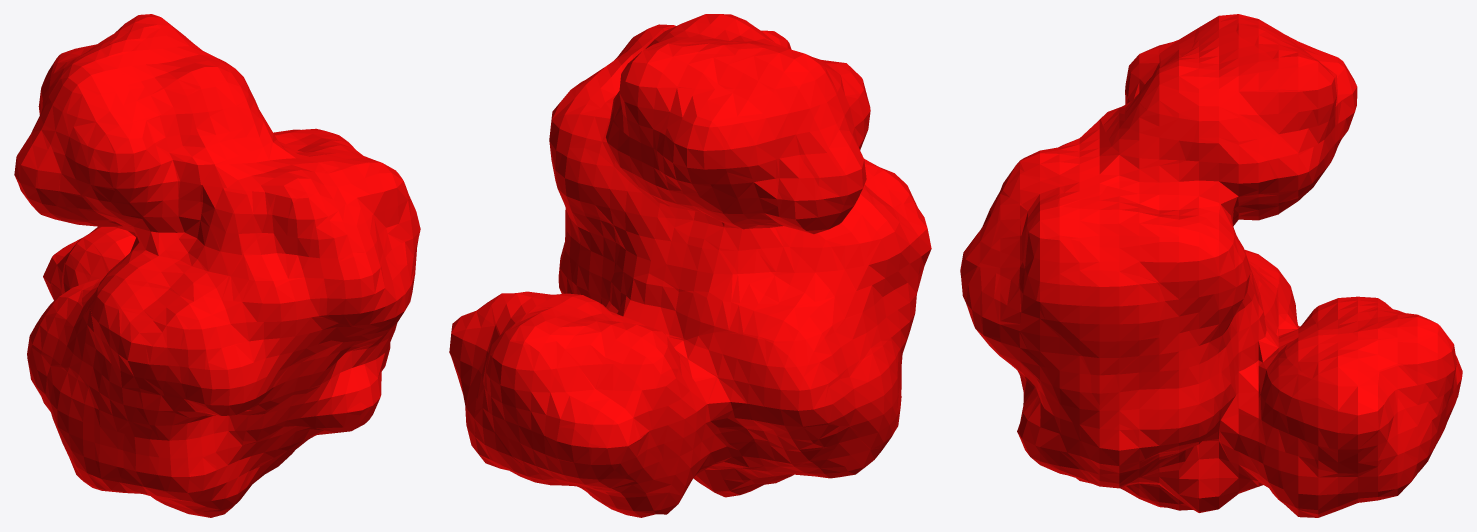
File: fabA_coarse.dae
3 views of the same model, side by side, from view 1: azimuth 30°, elevation 25°; view 2: azimuth 150°, elevation 25°; view 3: azimuth 270°, elevation 25° (orthographic). The views are drawn at different scales.
Parts seen in each view (by area): view 1: fabA; view 2: fabA; view 3: fabA.
Part boxes in pixels (bbox=[...]): fabA: bbox=[14, 14, 420, 517]; fabA: bbox=[449, 14, 931, 517]; fabA: bbox=[960, 14, 1462, 517].
Size of the model in its own units: 53.4 by 70.46 by 69.79.
